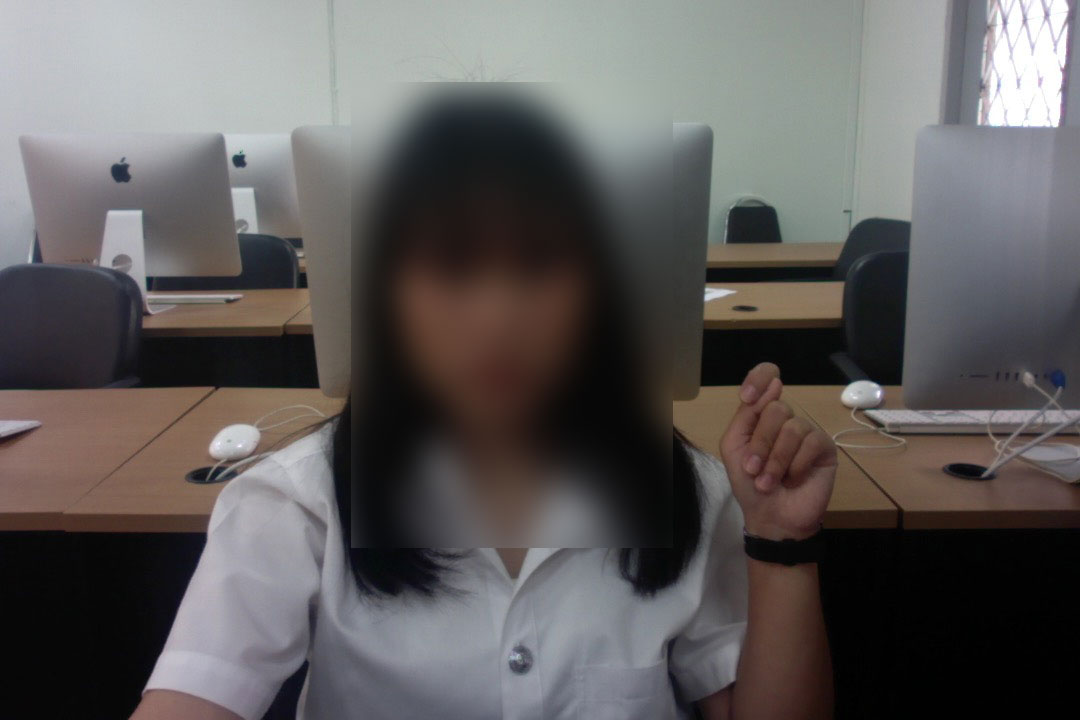tor: (714, 359, 842, 567)
